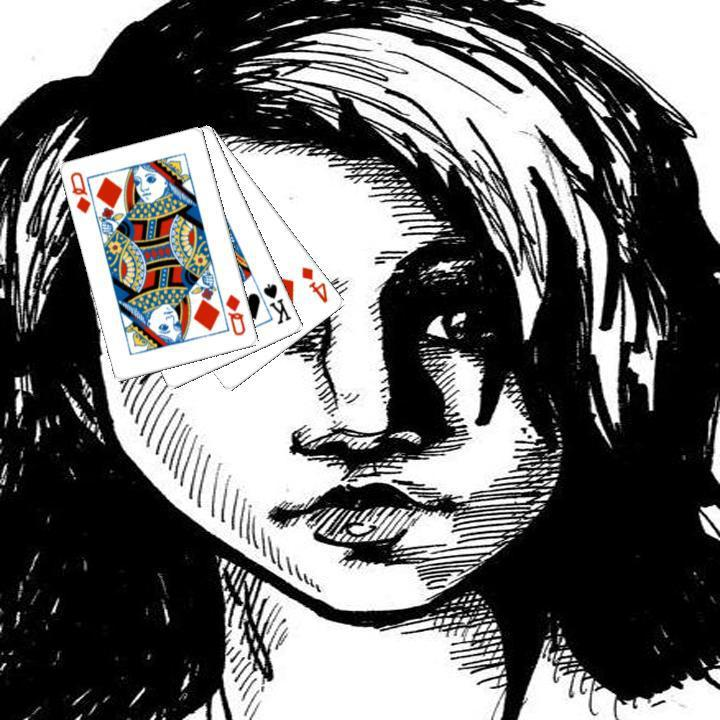4: (297, 262, 330, 305)
K: (259, 279, 294, 327)
Q: (66, 167, 93, 216), (221, 290, 248, 338)
